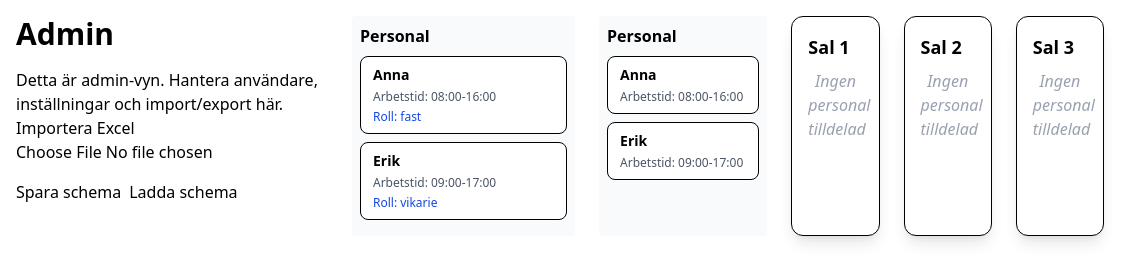
Test: AdminPage File System Integration › loads schedule successfully
What coordinates should you click on to do the following:
click the button "Ladda schema"
I would click on:
 (183, 192)
Its box is x1=129 y1=180 x2=238 y2=204.
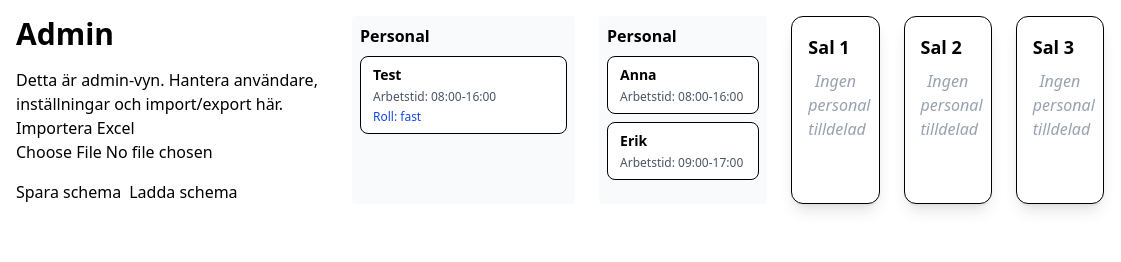
Now the text "Test" is shown, box x1=373 y1=65 x2=401 y2=84
